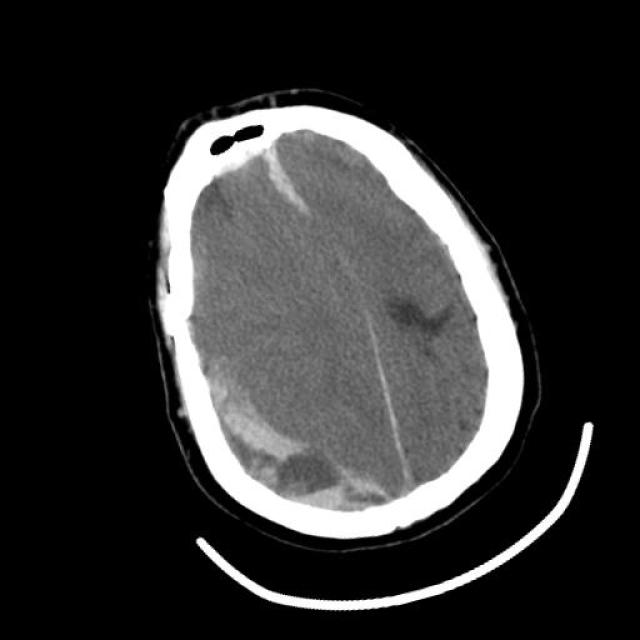Subdural: (171, 324, 398, 566), (199, 126, 326, 260)
